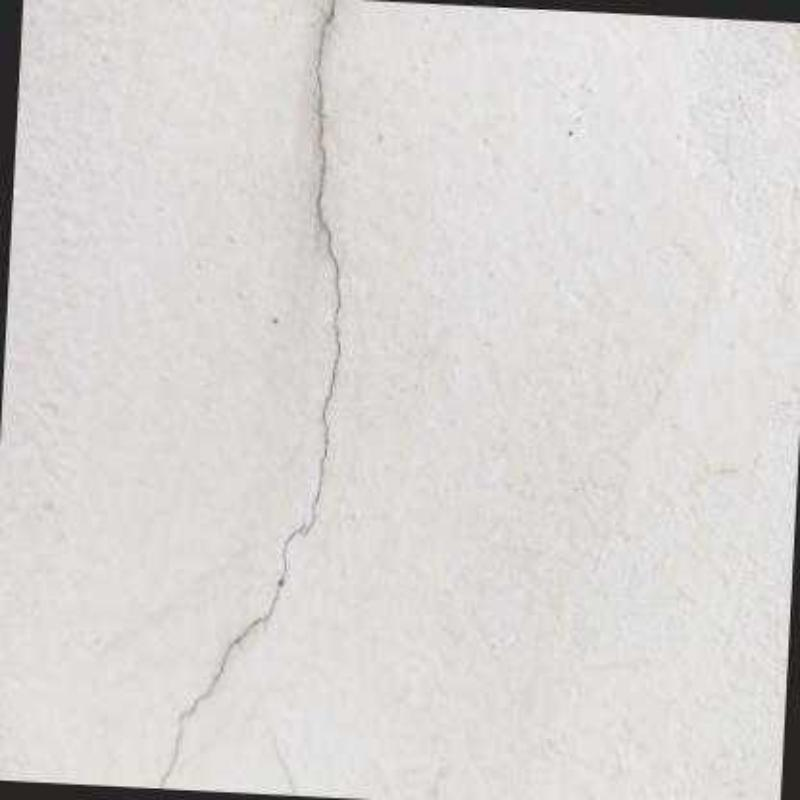pothole: (154, 1, 342, 788)
